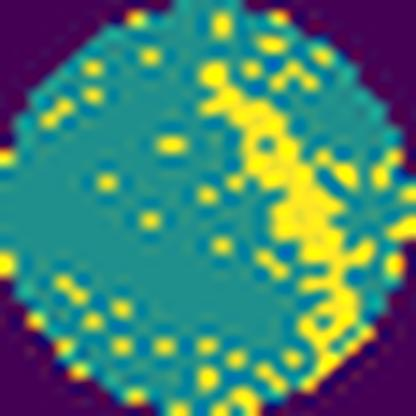Scratch: (194, 56, 380, 397)
